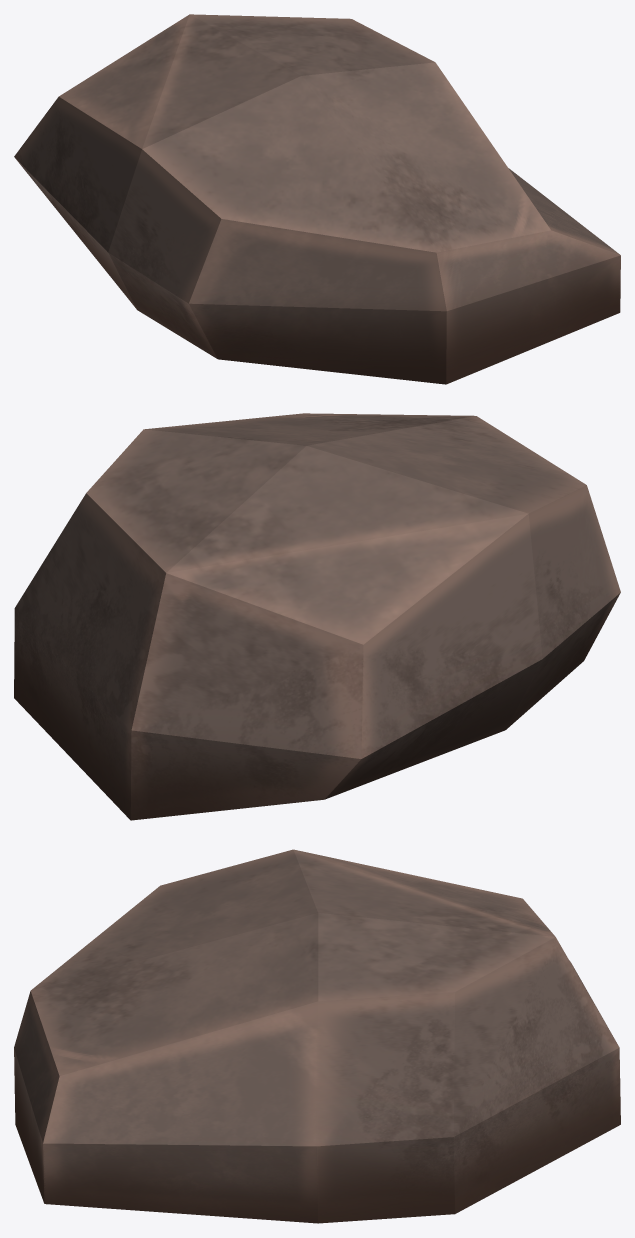
The model's file is kamulec4uv.obj.
The picture shows the model from 3 angles, top to bottom: view 1: azimuth 30°, elevation 25°; view 2: azimuth 150°, elevation 25°; view 3: azimuth 270°, elevation 25°; orthographic projection. The views are drawn at different scales.
Visible parts, largest first — view 1: kamien_3; view 2: kamien_3; view 3: kamien_3.
Part boxes in pixels (x1,y1,x2,y2): kamien_3: (14,14,620,384); kamien_3: (14,413,620,820); kamien_3: (14,849,620,1223).
Size of the model in its own units: 2 by 0.9993 by 2.6.
Materials: 1 (1 with a texture image).
